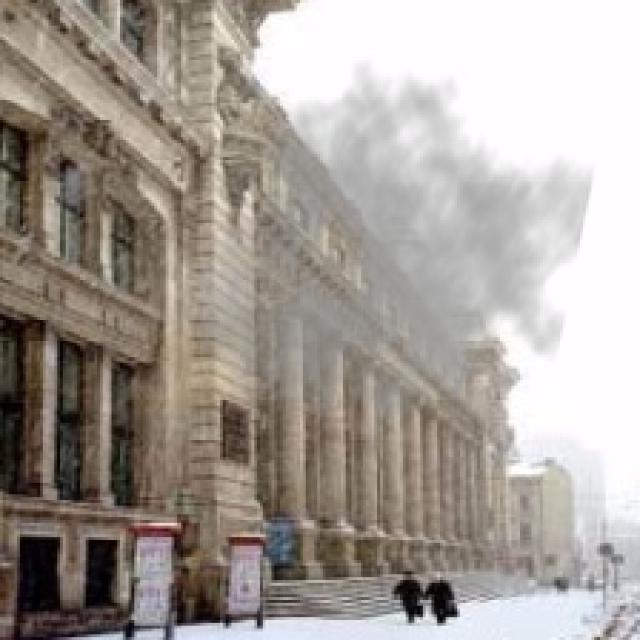Smoke: (188, 54, 598, 469)
